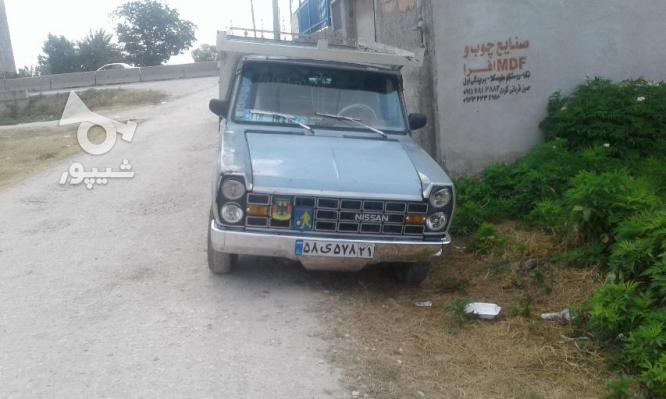car: (296, 240, 376, 257)
